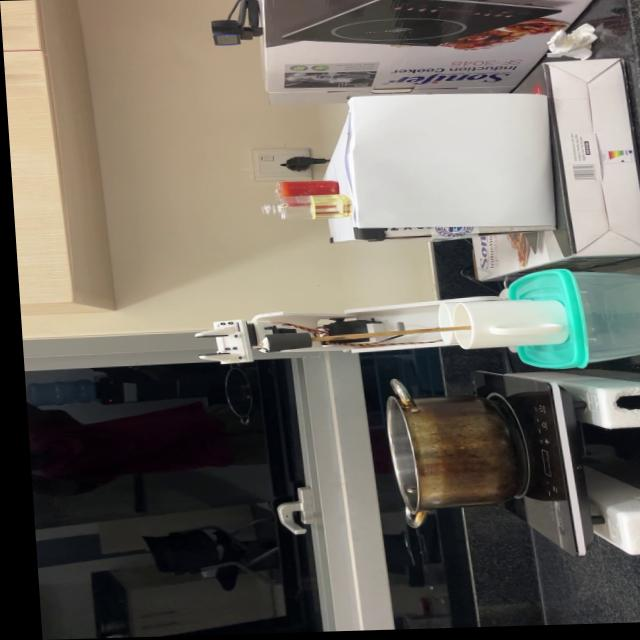blended_tomatoes_pepper: (277, 181, 335, 206)
cooking_pot: (378, 376, 524, 534)
oil: (307, 196, 348, 221)
spatula: (253, 326, 466, 354)
